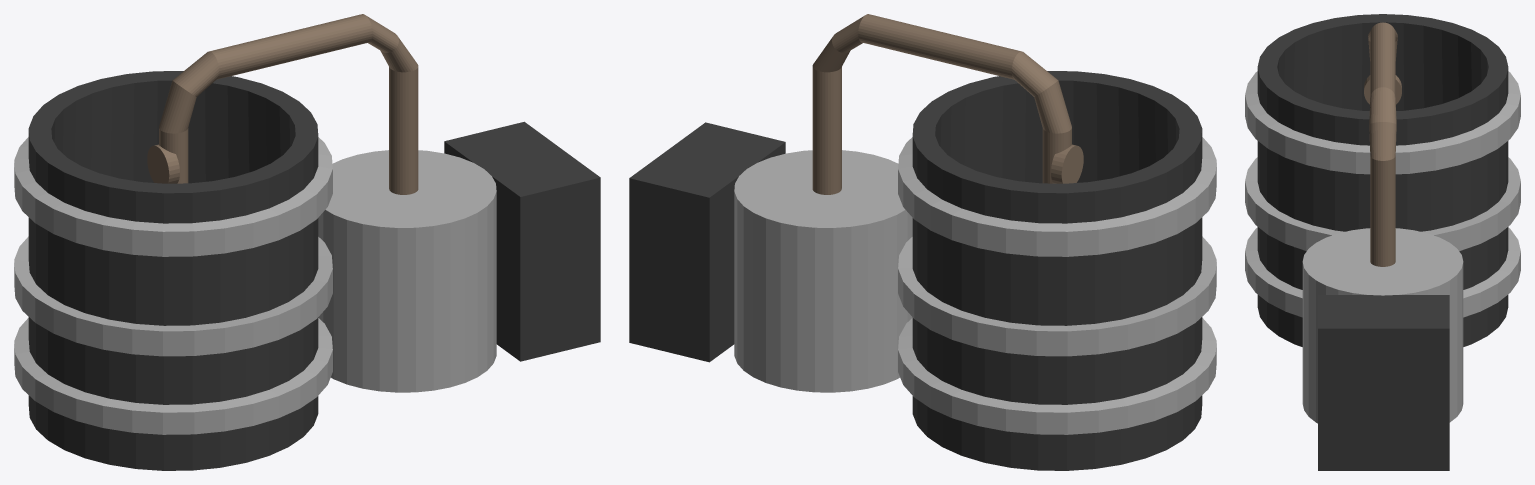
The model's file is Filter_T3.fbx.
3 renders of one model, left to right at view 1: azimuth 30°, elevation 25°; view 2: azimuth 150°, elevation 25°; view 3: azimuth 270°, elevation 25°, orthographic. The views are drawn at different scales.
Parts seen in each view (by area): view 1: Filter_T3; view 2: Filter_T3; view 3: Filter_T3.
Boxes of the visible parts, x1=… form: Filter_T3: x1=14, y1=14, x2=600, y2=470; Filter_T3: x1=629, y1=14, x2=1216, y2=470; Filter_T3: x1=1245, y1=14, x2=1520, y2=470.
Size of the model in its own units: 147 by 92.43 by 76.88.
